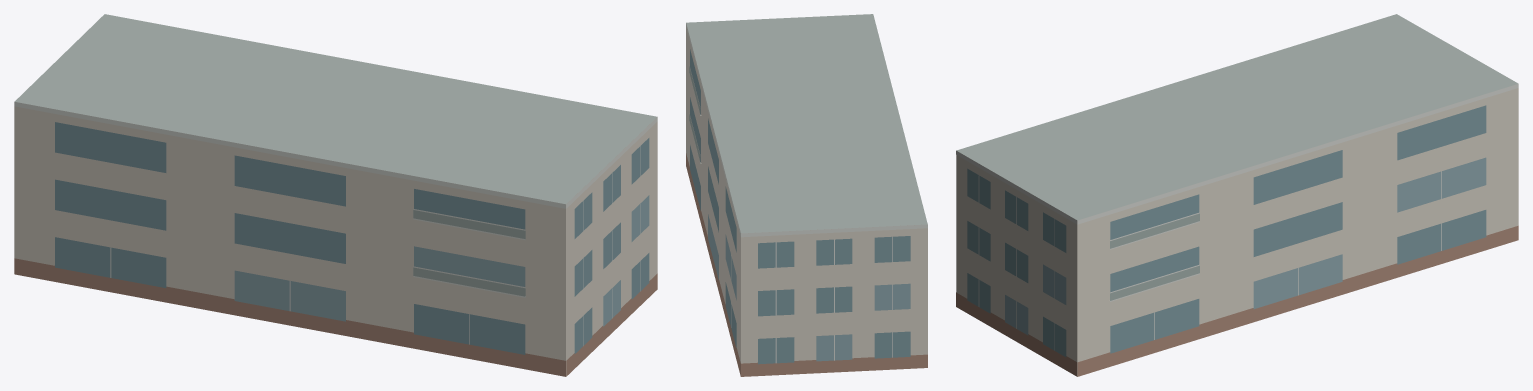
The model's file is survey-upis-32837751.glb.
3 views of the same model, side by side, from view 1: azimuth 30°, elevation 25°; view 2: azimuth 150°, elevation 25°; view 3: azimuth 270°, elevation 25° (orthographic). The views are drawn at different scales.
Visible parts, largest first — view 1: survey-upis-32837751.tmp; view 2: survey-upis-32837751.tmp; view 3: survey-upis-32837751.tmp.
Boxes of the visible parts, x1,y1,x2,y2 form: survey-upis-32837751.tmp: (14,14,657,376); survey-upis-32837751.tmp: (686,14,927,376); survey-upis-32837751.tmp: (956,14,1518,376).
Bounding box in the file's own units: 25.91 × 9.15 × 29.83.
